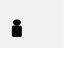human: (10, 17, 24, 39)
